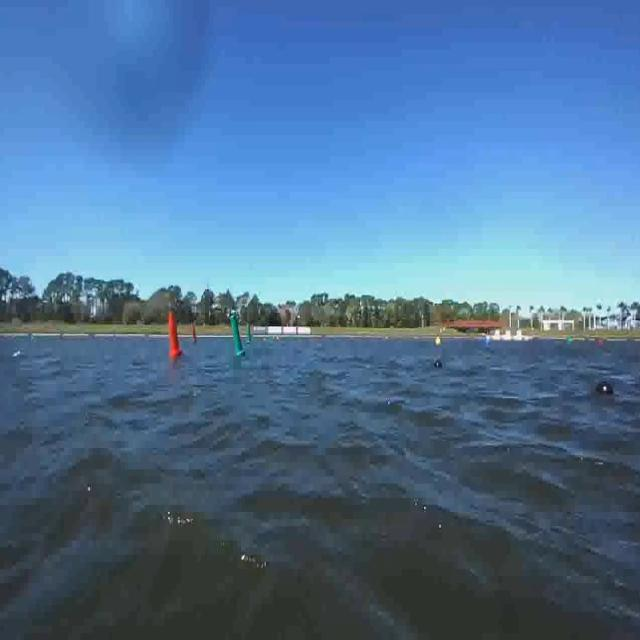black-buoy: (594, 382, 615, 398)
blue-buoy: (433, 358, 443, 370)
green-column-buoy: (228, 316, 245, 358), (244, 326, 249, 344)
red-column-buoy: (166, 310, 183, 356), (190, 324, 197, 342)
yellow-buoy: (434, 336, 442, 349)
